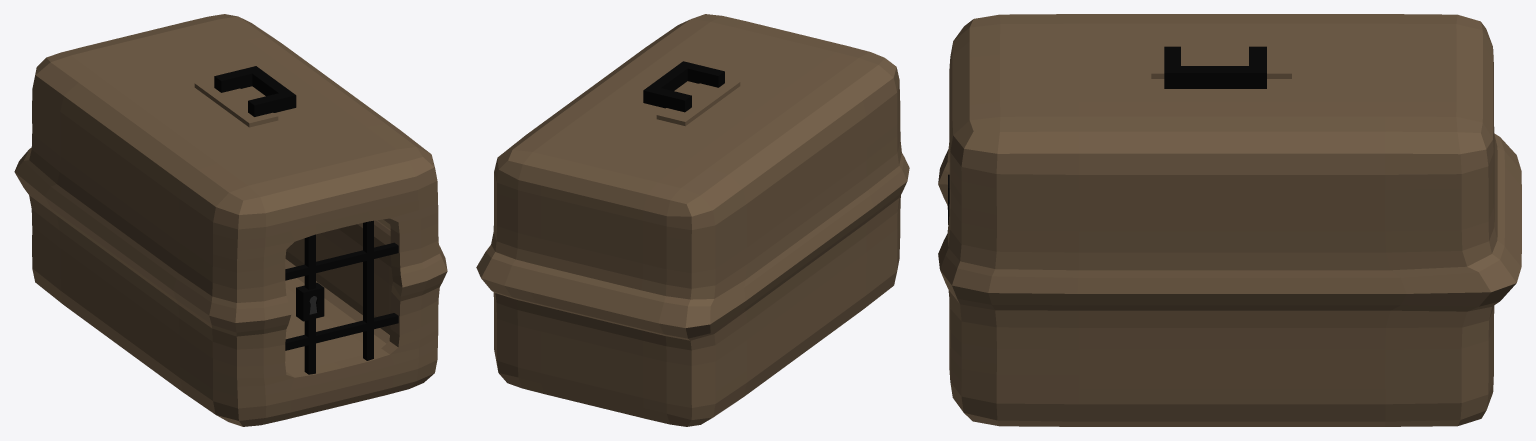
File: dogcage.fbx
The picture shows the model from 3 angles, left to right: view 1: azimuth 30°, elevation 25°; view 2: azimuth 150°, elevation 25°; view 3: azimuth 270°, elevation 25°; orthographic projection. The views are drawn at different scales.
Visible parts, largest first — view 1: dogcage; view 2: dogcage; view 3: dogcage.
Boxes of the visible parts, bbox=[...] form: dogcage: bbox=[14, 14, 447, 426]; dogcage: bbox=[476, 14, 909, 426]; dogcage: bbox=[938, 14, 1521, 426].
Size of the model in its own units: 375 by 376 by 618.
